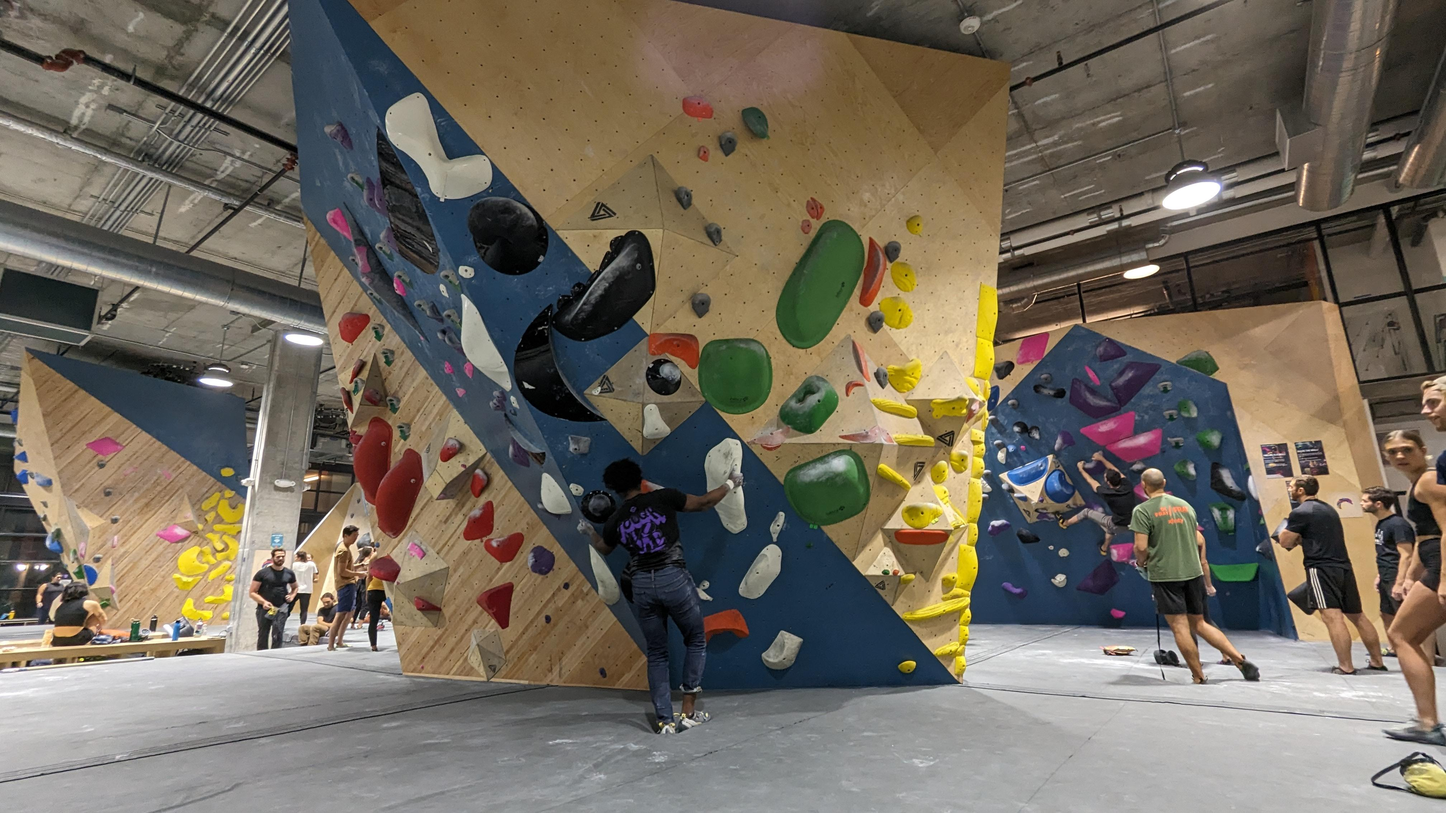black-hold: (547, 224, 680, 364), (759, 212, 884, 359), (367, 84, 503, 218), (491, 302, 609, 450), (355, 119, 447, 283), (460, 181, 559, 287), (776, 443, 880, 536), (440, 290, 517, 402), (363, 442, 434, 542), (697, 337, 774, 416), (773, 369, 847, 444), (349, 414, 394, 507), (688, 432, 755, 494), (732, 540, 793, 606), (1102, 347, 1163, 409), (849, 236, 894, 310), (494, 412, 552, 468), (1061, 376, 1123, 428), (643, 321, 707, 371), (1198, 456, 1251, 513), (1104, 426, 1170, 469), (1079, 409, 1143, 453), (710, 485, 760, 538), (1073, 557, 1125, 607), (587, 539, 623, 608), (530, 468, 575, 523), (757, 626, 805, 677), (639, 353, 688, 401), (574, 482, 622, 530), (901, 595, 973, 626), (473, 577, 515, 630), (1175, 340, 1224, 383), (330, 302, 373, 347), (1037, 465, 1080, 510), (631, 401, 673, 446), (876, 290, 917, 334), (973, 282, 1002, 343), (701, 607, 750, 643), (736, 101, 777, 143), (1005, 455, 1054, 490), (482, 531, 529, 567), (745, 425, 796, 458), (1286, 580, 1326, 621), (356, 175, 388, 224), (885, 357, 926, 395), (1011, 331, 1055, 366), (321, 116, 360, 155), (434, 322, 475, 359), (521, 542, 560, 580), (366, 549, 405, 586), (173, 544, 211, 581), (867, 394, 919, 421), (462, 500, 495, 541), (323, 206, 356, 247), (954, 543, 981, 593), (500, 436, 535, 474), (874, 461, 915, 492), (901, 502, 944, 530), (85, 432, 125, 462), (888, 258, 919, 296), (929, 394, 972, 421), (179, 597, 215, 629), (155, 519, 192, 549), (838, 425, 882, 449), (973, 338, 997, 382), (893, 528, 950, 546), (1209, 562, 1260, 582), (1093, 334, 1127, 364), (201, 582, 238, 609), (686, 288, 717, 319), (1171, 454, 1203, 484), (438, 265, 470, 295), (213, 533, 242, 566), (851, 337, 871, 384), (435, 435, 464, 467), (1208, 501, 1236, 534), (214, 498, 246, 526), (409, 594, 443, 620), (1193, 424, 1224, 452), (681, 95, 715, 119), (966, 477, 983, 525), (701, 219, 729, 247), (670, 183, 698, 211), (715, 129, 742, 158), (765, 509, 788, 543), (377, 225, 400, 259), (983, 513, 1013, 539), (370, 177, 388, 220), (468, 467, 491, 500), (879, 237, 907, 264), (863, 307, 890, 334), (1048, 427, 1076, 453), (1253, 539, 1279, 567), (441, 305, 469, 331), (421, 300, 446, 329), (946, 497, 970, 527), (999, 578, 1029, 602), (1013, 526, 1042, 550), (199, 488, 225, 514), (991, 357, 1018, 382), (637, 478, 666, 501), (932, 480, 955, 509), (204, 559, 234, 581), (393, 267, 419, 292), (870, 364, 895, 390), (903, 213, 928, 238), (41, 534, 67, 558), (373, 240, 399, 264), (948, 449, 972, 475), (344, 358, 366, 386), (1269, 515, 1290, 544), (361, 384, 386, 408), (345, 169, 370, 193), (840, 375, 866, 398), (566, 434, 592, 457), (1081, 456, 1107, 479), (1032, 383, 1067, 400), (171, 573, 202, 592), (353, 244, 372, 275), (381, 391, 405, 415), (403, 540, 427, 563), (376, 345, 399, 368), (392, 418, 415, 441), (204, 530, 226, 554), (929, 460, 950, 485), (932, 641, 961, 659), (893, 434, 936, 446), (197, 544, 218, 568), (964, 373, 985, 397), (1082, 363, 1102, 388), (595, 249, 615, 274), (940, 586, 971, 602), (389, 273, 408, 299), (985, 384, 1002, 413), (367, 320, 389, 342), (339, 386, 355, 416), (971, 402, 990, 427), (1109, 543, 1134, 562), (1130, 483, 1151, 505), (552, 290, 574, 311), (965, 399, 982, 426), (31, 472, 55, 491), (567, 279, 588, 299), (692, 586, 714, 605), (365, 288, 387, 307), (810, 195, 826, 221), (606, 231, 624, 254), (212, 523, 243, 536), (1155, 376, 1175, 396), (412, 296, 433, 315), (1245, 474, 1259, 502), (965, 523, 981, 547), (1177, 399, 1197, 418), (974, 476, 993, 496), (948, 644, 969, 662), (878, 425, 895, 447), (460, 360, 479, 379), (804, 198, 819, 221), (1128, 460, 1147, 478), (1025, 423, 1044, 441), (583, 269, 602, 287), (84, 563, 98, 586), (971, 456, 985, 479), (1162, 408, 1181, 424), (897, 660, 917, 675), (1000, 481, 1017, 498), (567, 482, 585, 498), (799, 217, 814, 236), (981, 379, 993, 402), (957, 625, 970, 646), (71, 564, 86, 582), (972, 441, 987, 459), (202, 508, 217, 525), (440, 360, 455, 377), (899, 572, 917, 586), (383, 596, 395, 616), (955, 656, 967, 676), (970, 428, 985, 444), (458, 265, 475, 279), (1109, 607, 1126, 621), (697, 144, 710, 162), (489, 398, 507, 411), (1166, 437, 1184, 450), (959, 608, 972, 626), (14, 450, 29, 465), (1039, 371, 1054, 386), (1012, 421, 1028, 435), (1006, 397, 1021, 411), (992, 437, 1007, 451), (16, 469, 29, 485), (438, 282, 449, 300), (509, 394, 520, 412), (492, 389, 506, 403), (453, 385, 467, 399), (348, 433, 363, 446), (949, 518, 964, 531), (122, 465, 138, 477), (353, 378, 364, 395), (102, 485, 116, 498), (1054, 571, 1068, 584), (51, 523, 60, 543), (1091, 503, 1107, 514), (597, 666, 609, 680), (68, 549, 79, 564), (78, 541, 87, 559), (997, 447, 1006, 465), (1051, 578, 1067, 588), (1036, 513, 1056, 521), (160, 468, 173, 480), (590, 385, 603, 397), (96, 458, 109, 470), (25, 468, 38, 480), (987, 413, 999, 426), (223, 487, 237, 498), (109, 535, 120, 549), (348, 255, 359, 269), (982, 410, 989, 432), (220, 467, 235, 477), (224, 573, 237, 584), (1013, 493, 1028, 502), (98, 599, 110, 610), (361, 275, 373, 286), (92, 553, 104, 564), (977, 392, 988, 404), (1241, 461, 1252, 472), (1066, 503, 1085, 509), (699, 580, 710, 590), (982, 469, 992, 480), (221, 611, 231, 621), (951, 512, 961, 522), (1059, 548, 1070, 557), (804, 541, 815, 550), (108, 583, 116, 595), (1052, 456, 1060, 468), (436, 493, 446, 502), (1007, 444, 1017, 453), (509, 407, 517, 418), (110, 516, 121, 524), (16, 437, 24, 448), (183, 511, 192, 520), (348, 427, 357, 436), (892, 568, 901, 577), (1037, 496, 1046, 505), (544, 614, 552, 624), (39, 500, 49, 508), (196, 522, 204, 531), (1034, 508, 1047, 513), (562, 582, 570, 590), (1197, 523, 1205, 531), (881, 569, 890, 575), (1258, 518, 1265, 525), (1020, 444, 1027, 451), (1048, 545, 1054, 551), (1165, 491, 1174, 495), (460, 464, 467, 469), (375, 542, 380, 548), (419, 336, 423, 341), (420, 665, 424, 669), (961, 522, 965, 526)
